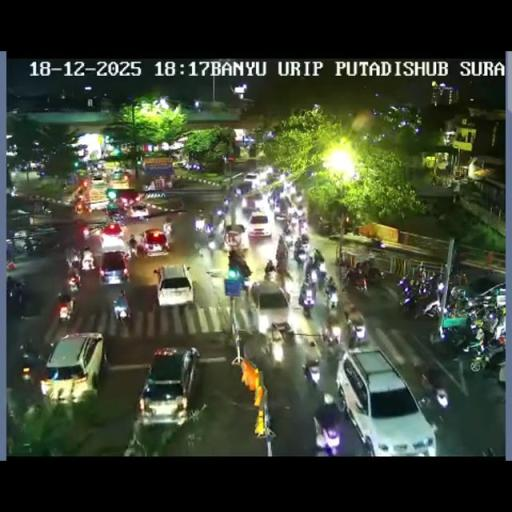Car: (336, 350, 434, 454), (137, 346, 200, 426), (42, 330, 107, 405), (449, 276, 504, 318), (248, 279, 290, 333), (154, 264, 194, 306), (98, 250, 130, 285), (140, 228, 170, 257), (246, 211, 272, 238), (99, 229, 127, 254), (223, 223, 246, 248), (242, 191, 265, 215), (128, 202, 150, 220), (242, 172, 260, 190), (111, 168, 124, 180), (91, 168, 103, 179)
Motorcycle: (398, 272, 445, 318), (434, 312, 477, 355), (466, 330, 504, 374), (312, 406, 342, 454), (414, 374, 449, 413), (216, 180, 242, 218), (263, 322, 286, 364), (342, 266, 368, 294), (298, 282, 316, 317), (18, 340, 41, 366), (304, 357, 322, 389), (348, 320, 367, 349), (57, 293, 74, 322), (480, 309, 498, 335), (113, 296, 130, 322), (323, 325, 341, 349), (275, 194, 292, 219), (326, 284, 340, 310), (204, 226, 217, 254), (314, 265, 328, 288), (6, 275, 19, 298), (412, 263, 425, 286), (294, 241, 308, 262), (81, 250, 95, 271), (311, 246, 324, 268), (67, 272, 80, 293), (451, 270, 468, 286), (318, 218, 332, 236), (368, 237, 386, 250), (20, 364, 33, 382), (193, 236, 204, 257), (110, 208, 126, 222), (128, 234, 138, 256), (264, 266, 277, 282), (298, 217, 308, 237), (25, 237, 36, 255), (135, 241, 146, 257), (282, 218, 291, 234), (206, 212, 214, 230), (196, 210, 206, 224), (290, 214, 298, 231), (70, 258, 81, 270), (163, 222, 172, 236), (82, 226, 90, 240), (75, 200, 83, 214), (242, 276, 250, 290), (234, 186, 242, 198), (222, 197, 230, 209), (124, 251, 130, 266), (216, 208, 222, 216)
